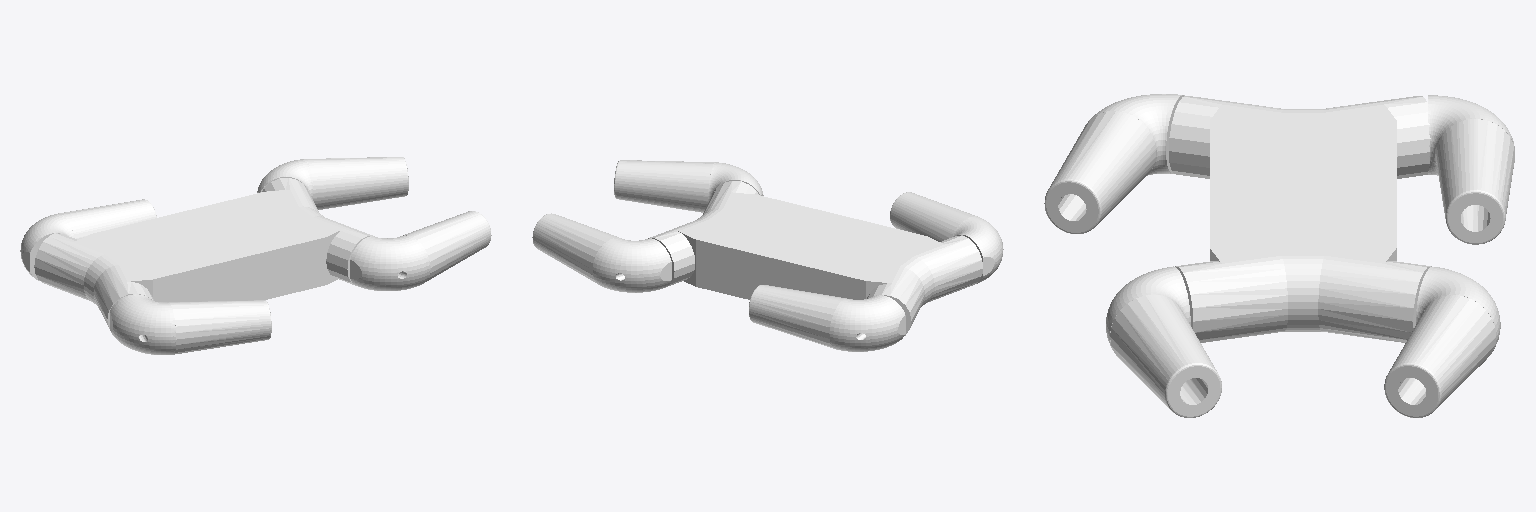
robot.urdf — 18_degree:
<?xml version="1.0" encoding="utf-8"?>
<!-- This URDF was automatically created by SolidWorks to URDF Exporter! Originally created by [author] ([email redacted]) 
     Commit Version: 1.5.1-0-g916b5db  Build Version: 1.5.7152.31018
     For more information, please see http://wiki.ros.org/sw_urdf_exporter -->
<robot
  name="18_degree">
  <link
    name="base_link">
    <inertial>
      <origin
        xyz="4.8572E-17 4.0369E-08 -4.2712E-09"
        rpy="0 0 0" />
      <mass
        value="2.942" />
      <inertia
        ixx="0.0520581"
        ixy="2.5146E-19"
        ixz="-1.5413E-10"
        iyy="0.0098730"
        iyz="5.4816E-18"
        izz="0.0445906" />
    </inertial>
    <visual>
      <origin
        xyz="0 0 0"
        rpy="0 0 0" />
      <geometry>
        <mesh
          filename="package://18_degree/meshes/base_link.STL" />
      </geometry>
      <material
        name="">
        <color
          rgba="1 1 1 1" />
      </material>
    </visual>
    <collision>
      <origin
        xyz="0 0 0"
        rpy="0 0 0" />
      <geometry>
        <mesh
          filename="package://18_degree/meshes/base_link.STL" />
      </geometry>
    </collision>
  </link>
  <link
    name="left_front_link">
    <inertial>
      <origin
        xyz="-1.0036E-07 0.065179 -0.016685"
        rpy="0 0 0" />
      <mass
        value="0.092" />
      <inertia
        ixx="0.0002604"
        ixy="4.6361E-10"
        ixz="9.2166E-10"
        iyy="0.0000588"
        iyz="-0.0000419"
        izz="0.0002513" />
    </inertial>
    <visual>
      <origin
        xyz="0 0 0"
        rpy="0 0 0" />
      <geometry>
        <mesh
          filename="package://18_degree/meshes/left_front_link.STL" />
      </geometry>
      <material
        name="">
        <color
          rgba="1 1 1 1" />
      </material>
    </visual>
    <collision>
      <origin
        xyz="0 0 0"
        rpy="0 0 0" />
      <geometry>
        <mesh
          filename="package://18_degree/meshes/left_front_link.STL" />
      </geometry>
    </collision>
  </link>
  <joint
    name="left_front_leg"
    type="continuous">
    <origin
      xyz="0.16183 0.097959 0"
      rpy="1.5708 1.5708 0" />
    <parent
      link="base_link" />
    <child
      link="left_front_link" />
    <axis
      xyz="0 0.30902 -0.95106" />
    <limit
      effort="5"
      velocity="487" />
  </joint>
  <link
    name="right_front_link">
    <inertial>
      <origin
        xyz="1.0036E-07 0.065179 0.016685"
        rpy="0 0 0" />
      <mass
        value="0.092" />
      <inertia
        ixx="0.0002604"
        ixy="-4.6361E-10"
        ixz="9.2166E-10"
        iyy="0.0000588"
        iyz="0.0000419"
        izz="0.0002513" />
    </inertial>
    <visual>
      <origin
        xyz="0 0 0"
        rpy="0 0 0" />
      <geometry>
        <mesh
          filename="package://18_degree/meshes/right_front_link.STL" />
      </geometry>
      <material
        name="">
        <color
          rgba="1 1 1 1" />
      </material>
    </visual>
    <collision>
      <origin
        xyz="0 0 0"
        rpy="0 0 0" />
      <geometry>
        <mesh
          filename="package://18_degree/meshes/right_front_link.STL" />
      </geometry>
    </collision>
  </link>
  <joint
    name="right_front_leg"
    type="continuous">
    <origin
      xyz="0.16183 -0.097959 0"
      rpy="1.5708 1.5708 0" />
    <parent
      link="base_link" />
    <child
      link="right_front_link" />
    <axis
      xyz="0 0.30902 0.95106" />
    <limit
      effort="5"
      velocity="487" />
  </joint>
  <link
    name="right_back_link">
    <inertial>
      <origin
        xyz="7.08E-08 0.056834 0.03601"
        rpy="0 0 0" />
      <mass
        value="0.092" />
      <inertia
        ixx="0.0002604"
        ixy="-5.3496E-10"
        ixz="2.4137E-10"
        iyy="0.0000526"
        iyz="-2.27E-05"
        izz="0.0002575" />
    </inertial>
    <visual>
      <origin
        xyz="0 0 0"
        rpy="0 0 0" />
      <geometry>
        <mesh
          filename="package://18_degree/meshes/right_back_link.STL" />
      </geometry>
      <material
        name="">
        <color
          rgba="1 1 1 1" />
      </material>
    </visual>
    <collision>
      <origin
        xyz="0 0 0"
        rpy="0 0 0" />
      <geometry>
        <mesh
          filename="package://18_degree/meshes/right_back_link.STL" />
      </geometry>
    </collision>
  </link>
  <joint
    name="right_back_leg"
    type="continuous">
    <origin
      xyz="-0.16183 -0.097959 0"
      rpy="0.31416 1.5708 -1.5708" />
    <parent
      link="base_link" />
    <child
      link="right_back_link" />
    <axis
      xyz="0 0 1" />
    <limit
      effort="5"
      velocity="487" />
  </joint>
  <link
    name="left_back_link">
    <inertial>
      <origin
        xyz="-7.08E-08 0.042924 -0.05181"
        rpy="0 0 0" />
      <mass
        value="0.092" />
      <inertia
        ixx="0.0002604"
        ixy="5.8337E-10"
        ixz="6.424E-11"
        iyy="0.0000855"
        iyz="0.0000786"
        izz="0.0002246" />
    </inertial>
    <visual>
      <origin
        xyz="0 0 0"
        rpy="0 0 0" />
      <geometry>
        <mesh
          filename="package://18_degree/meshes/left_back_link.STL" />
      </geometry>
      <material
        name="">
        <color
          rgba="1 1 1 1" />
      </material>
    </visual>
    <collision>
      <origin
        xyz="0 0 0"
        rpy="0 0 0" />
      <geometry>
        <mesh
          filename="package://18_degree/meshes/left_back_link.STL" />
      </geometry>
    </collision>
  </link>
  <joint
    name="left_back_leg"
    type="continuous">
    <origin
      xyz="-0.16183 0.097959 0"
      rpy="1.5708 1.5708 0" />
    <parent
      link="base_link" />
    <child
      link="left_back_link" />
    <axis
      xyz="0 -0.30902 -0.95106" />
    <limit
      effort="5"
      velocity="487" />
  </joint>
</robot>

--- What the picture shows (computed from the rendered views, not written in the file) ---
Views: 3 orthographic renders of the robot side by side, from view 1: azimuth 30°, elevation 25°; view 2: azimuth 150°, elevation 25°; view 3: azimuth 270°, elevation 25°.
Model 18_degree with 5 links and 4 joints (4 continuous), rooted at base_link, posed every joint at zero.
Links seen in each view (by area): view 1: base_link, right_back_link, right_front_link, left_front_link, left_back_link; view 2: base_link, left_back_link, left_front_link, right_front_link, right_back_link; view 3: base_link, right_back_link, right_front_link, left_front_link, left_back_link.
Boxes of the visible links, bbox=[...] form: base_link: bbox=[34, 178, 372, 328]; right_back_link: bbox=[110, 294, 271, 354]; right_front_link: bbox=[350, 211, 491, 290]; left_front_link: bbox=[257, 157, 408, 209]; left_back_link: bbox=[20, 199, 156, 280]; base_link: bbox=[648, 181, 982, 335]; left_back_link: bbox=[749, 285, 905, 351]; left_front_link: bbox=[532, 213, 671, 292]; right_front_link: bbox=[614, 160, 763, 212]; right_back_link: bbox=[890, 192, 1003, 283]; base_link: bbox=[1169, 96, 1431, 342]; right_back_link: bbox=[1044, 94, 1184, 233]; right_front_link: bbox=[1106, 266, 1221, 417]; left_front_link: bbox=[1384, 267, 1500, 417]; left_back_link: bbox=[1428, 95, 1514, 244].
Bounding box of the posed robot: 0.5278 × 0.3776 × 0.064 m (x, y, z).
5 mesh visuals loaded from 5 distinct referenced files (5 binary STL).